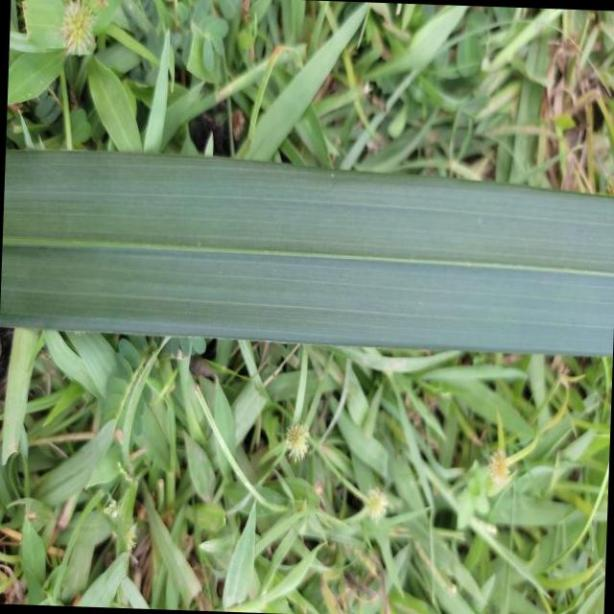Healthy: (6, 146, 614, 358)
